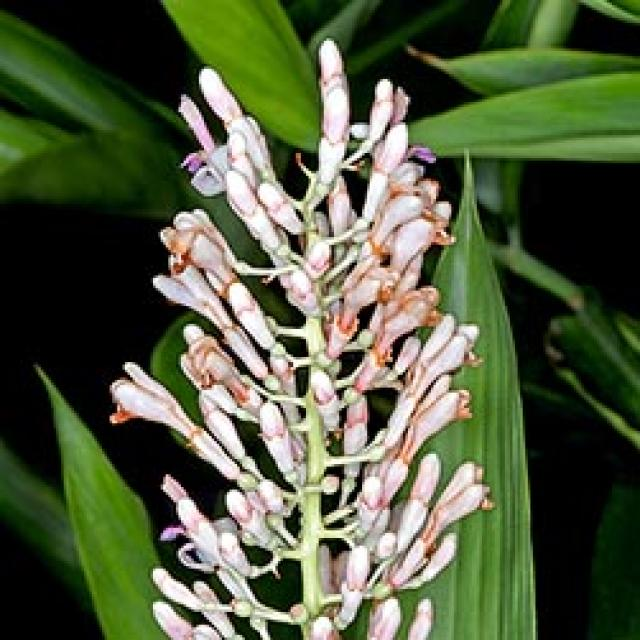Aquatic-Ginger: (110, 35, 492, 638)
